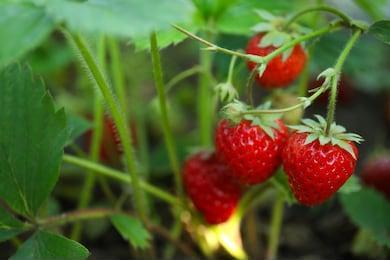Fresa: (279, 119, 363, 212), (212, 103, 290, 191), (242, 20, 311, 97)
